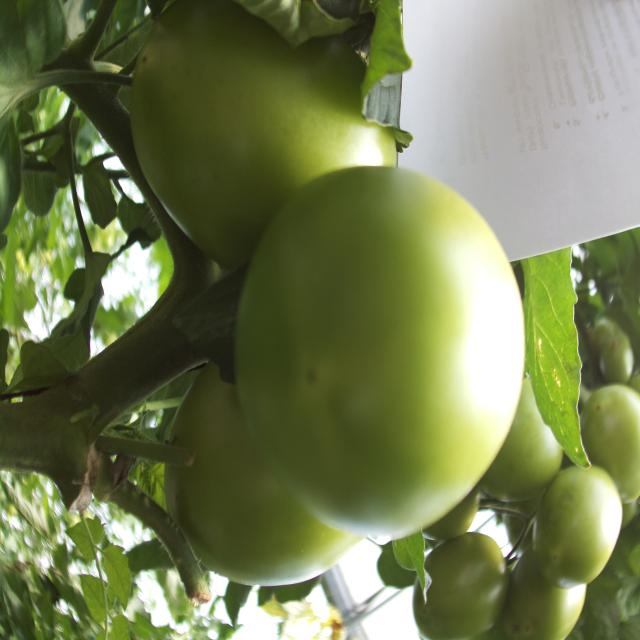yesil: (215, 156, 527, 547)
